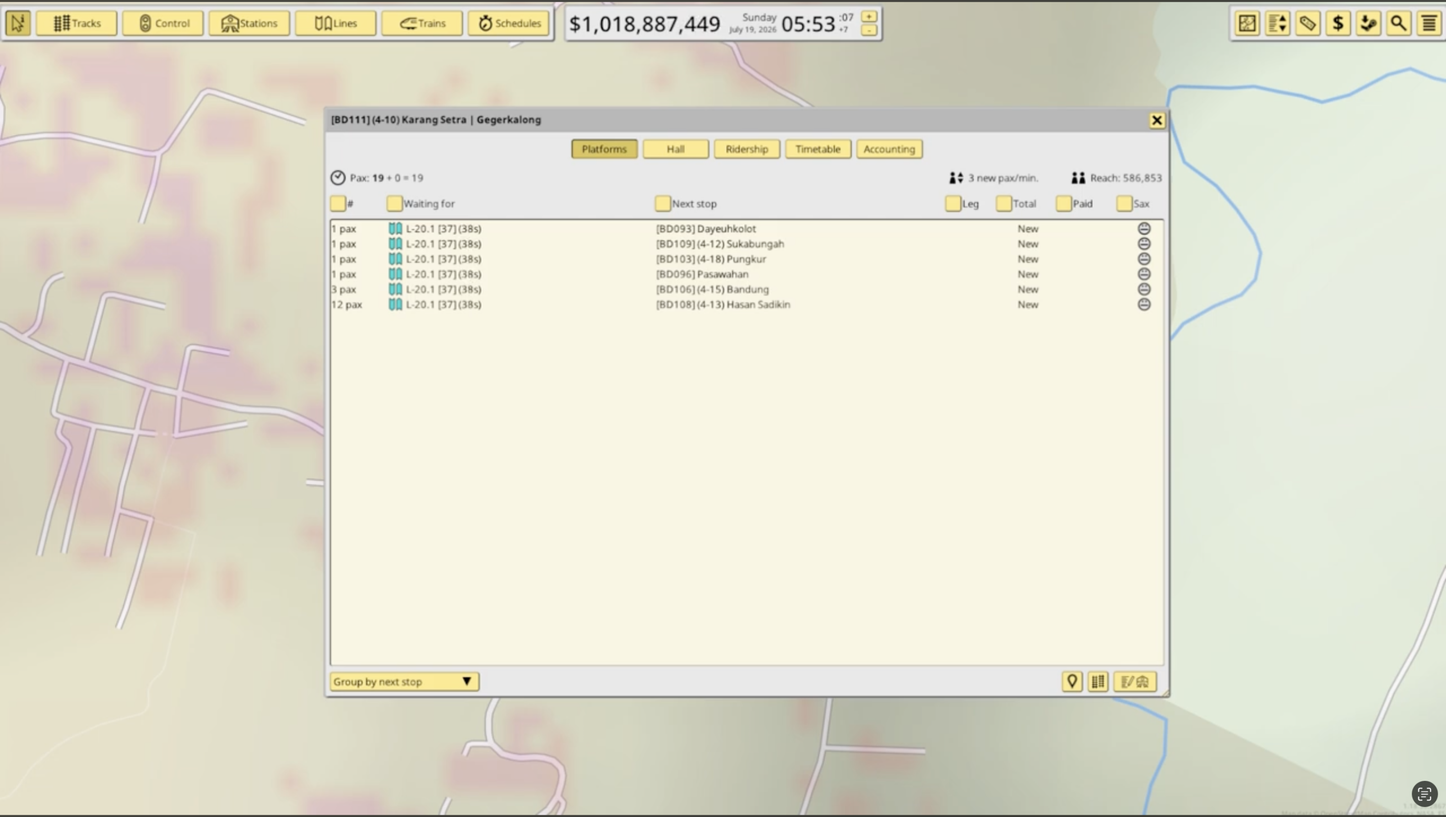passenger_increase: (332, 300, 362, 311), (332, 254, 356, 266), (332, 270, 357, 281), (332, 224, 356, 235), (332, 240, 357, 250), (331, 285, 356, 295)
station_id: (656, 224, 695, 235), (656, 239, 695, 250), (656, 269, 695, 280), (655, 285, 695, 295), (656, 255, 695, 265), (656, 300, 695, 310)
station_name: (697, 224, 757, 235), (726, 239, 785, 250), (727, 300, 791, 309), (697, 269, 749, 279), (727, 254, 767, 266), (726, 285, 769, 296)
station_numbering: (697, 239, 725, 250), (696, 300, 725, 310), (697, 285, 725, 295), (697, 254, 724, 264)
time: (782, 12, 856, 35)
